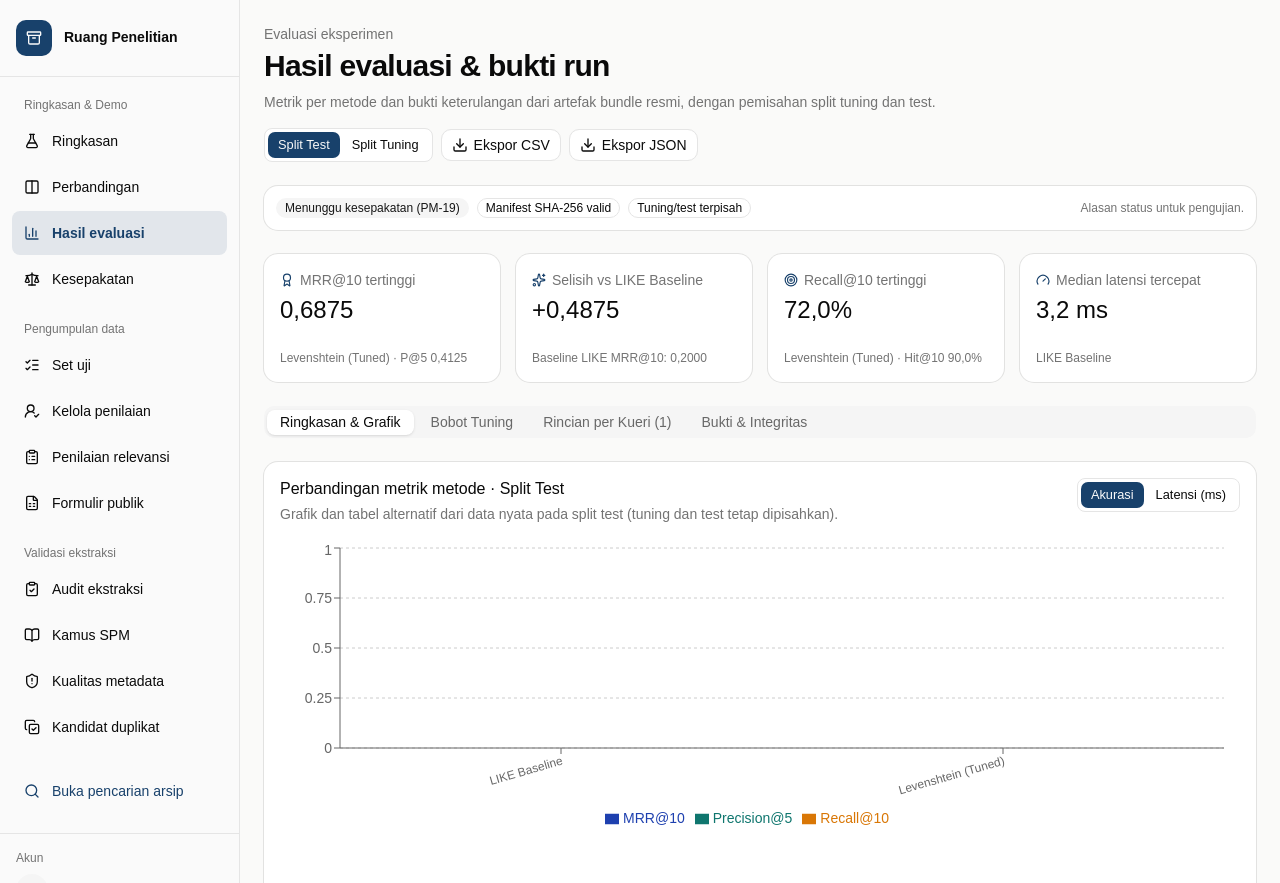
menampilkan KPI, tab, tabel alternatif grafik, pindah split, dan ekspor untuk admin
expect the text "Menunggu kesepakatan (PM-19)" is shown: met, box [276,198,469,218]
expect the text "Manifest SHA-256 valid" is shown: met, box [477,198,620,218]
Click the tab "Rincian per Kueri (1)" at x=607, y=422, box [530,410,684,434]
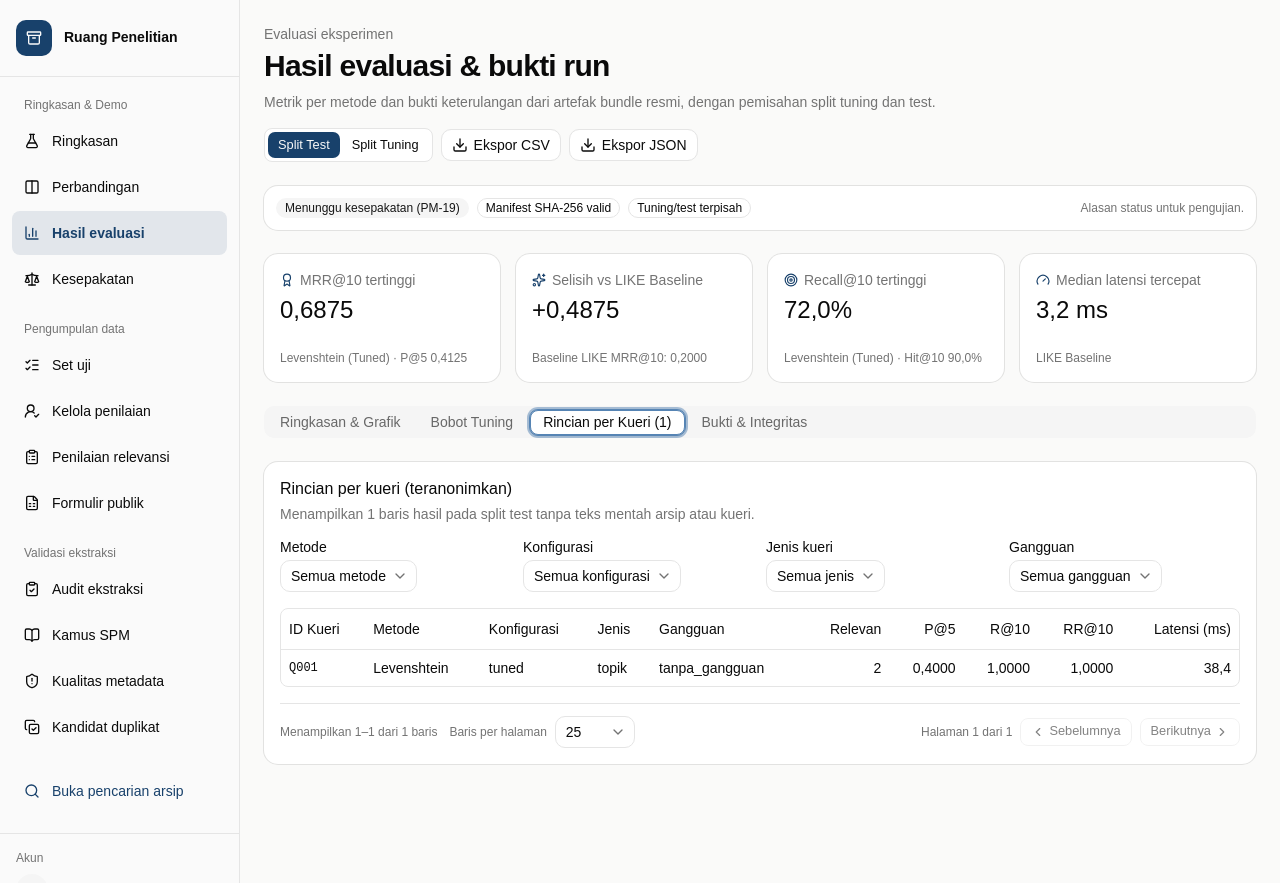
expect the text "Q001" is shown: met, box [281,649,365,686]
expect the text "Menampilkan 1–1 dari 1 baris" is shown: met, box [280,724,437,740]
expect the text "Halaman 1 dari 1" is shown: met, box [921,724,1012,740]
Click the dropdown named "Baris per halaman" at x=595, y=732, box [555,716,635,748]
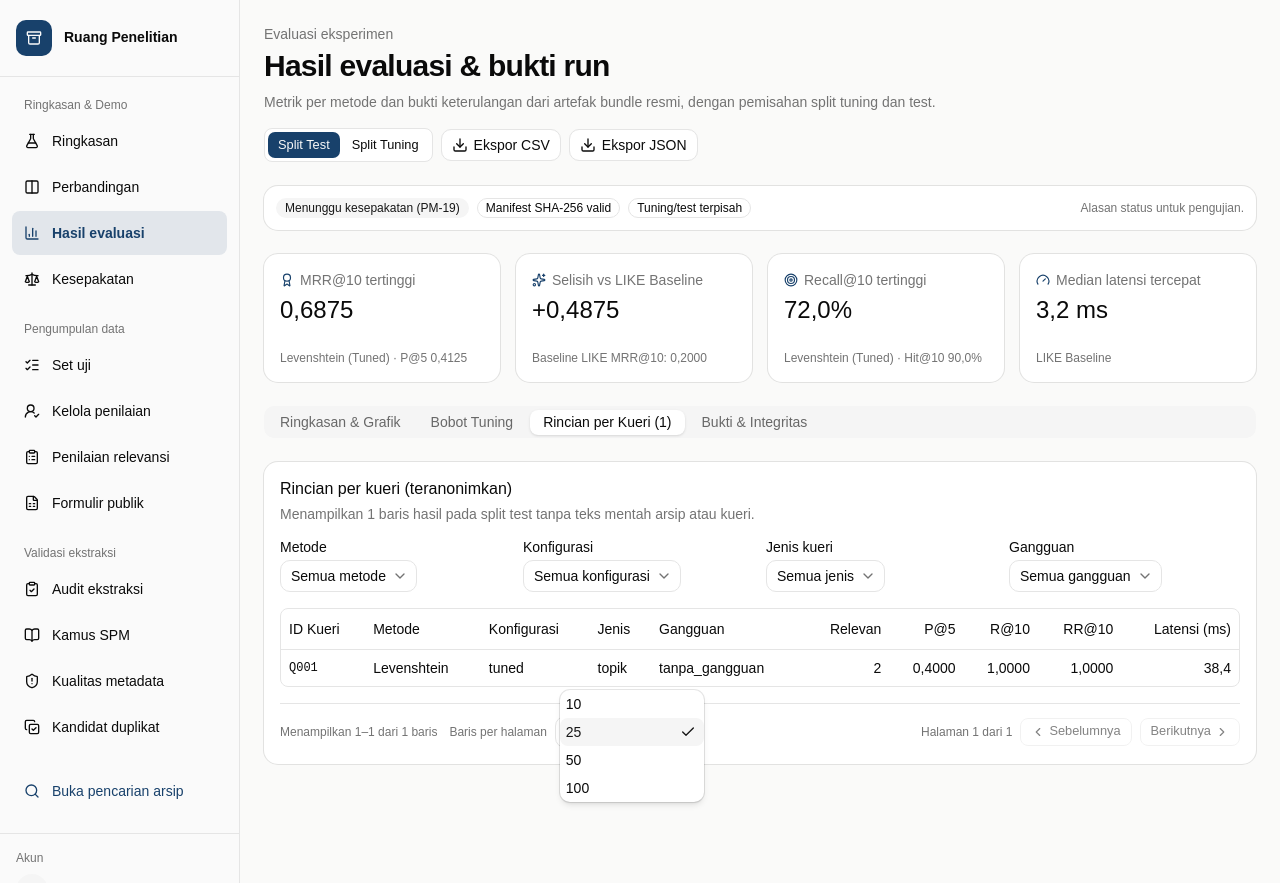
Click the option "50" at x=574, y=760, box [566,752,581,768]
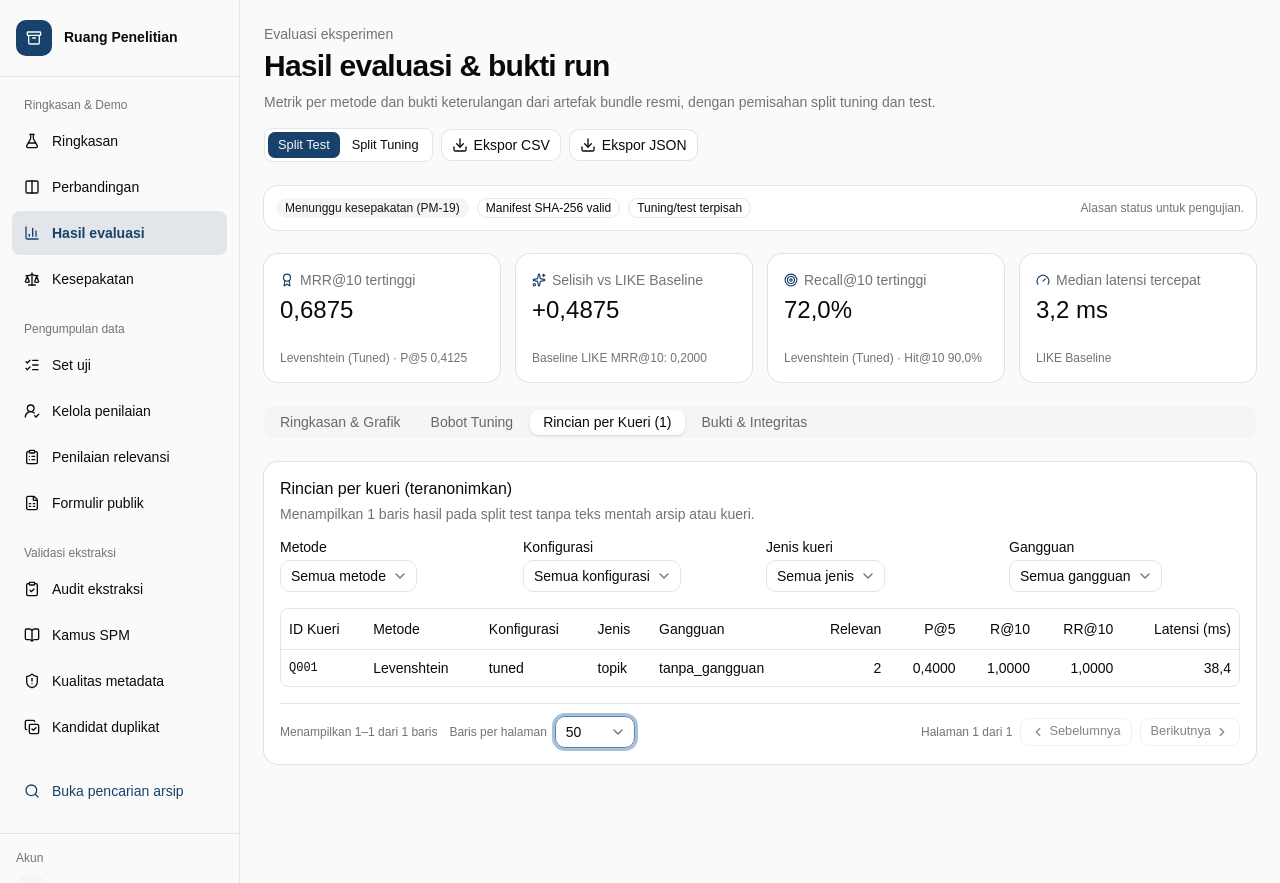
expect the text "Q001" is shown: met, box [281,649,365,686]
Click the tab "Bukti & Integritas" at x=754, y=422, box [688,410,820,434]
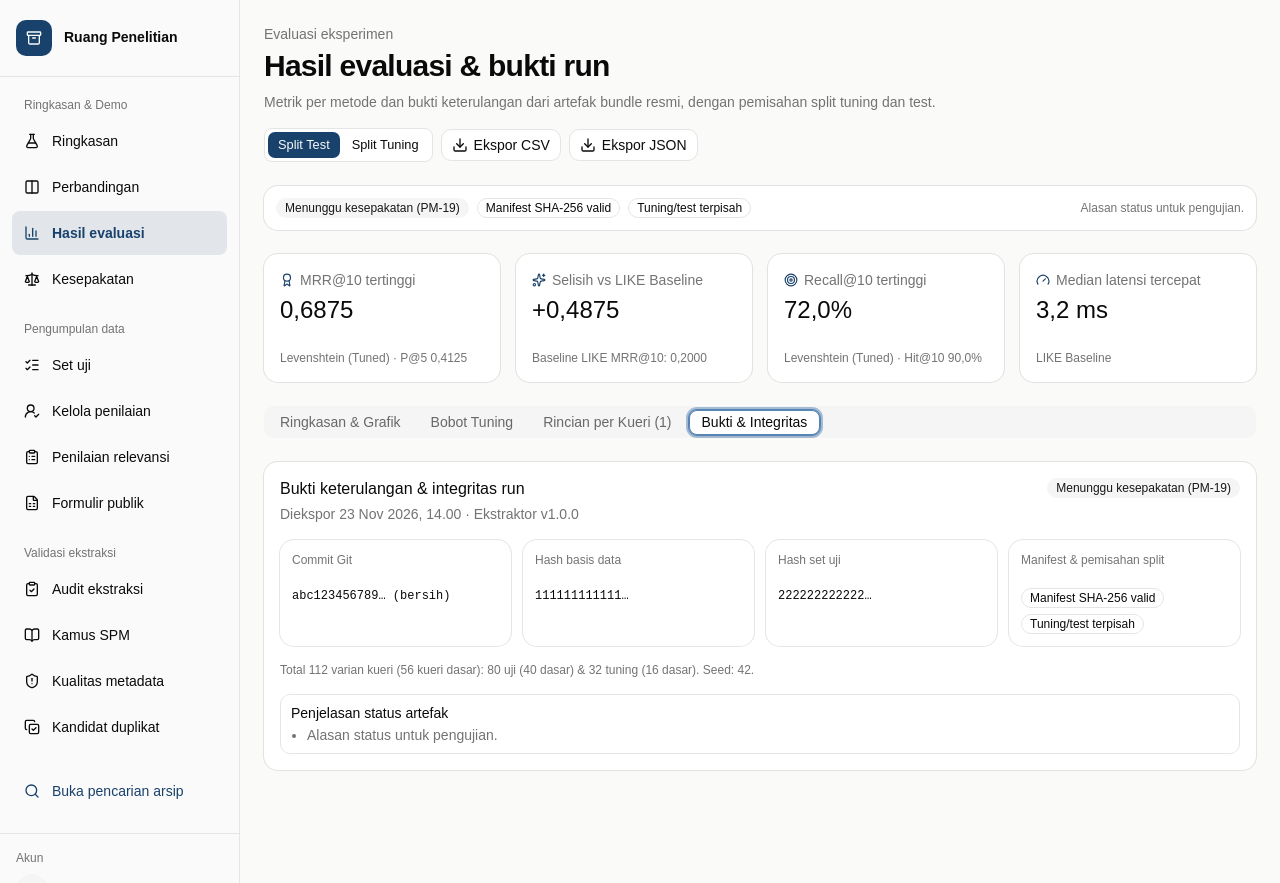
expect the text "Commit Git" is shown: met, box [292,553,352,567]
Click the button "Split Tuning" at x=385, y=145, box [341,131,430,159]
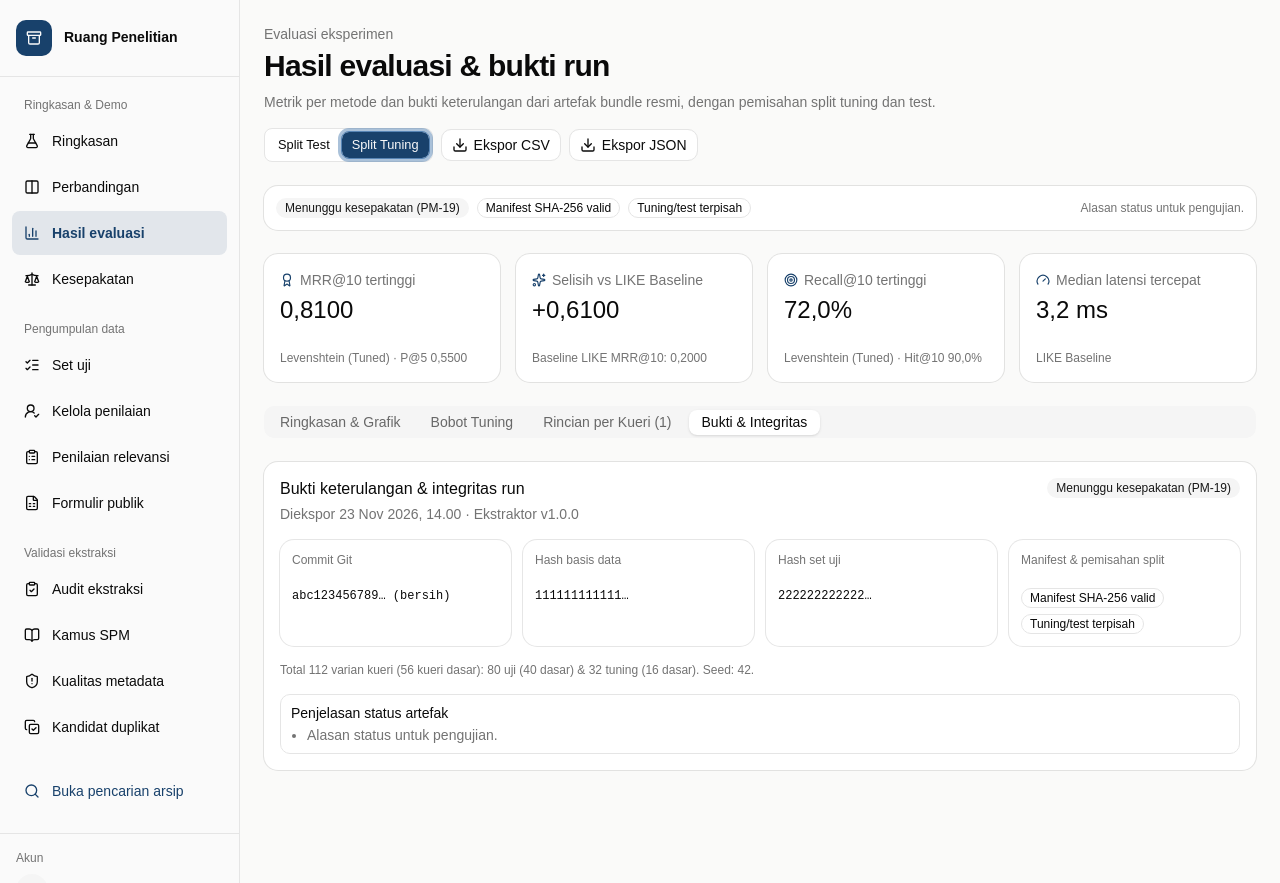
Click the tab "Rincian per Kueri (1)" at x=607, y=422, box [530,410,684,434]
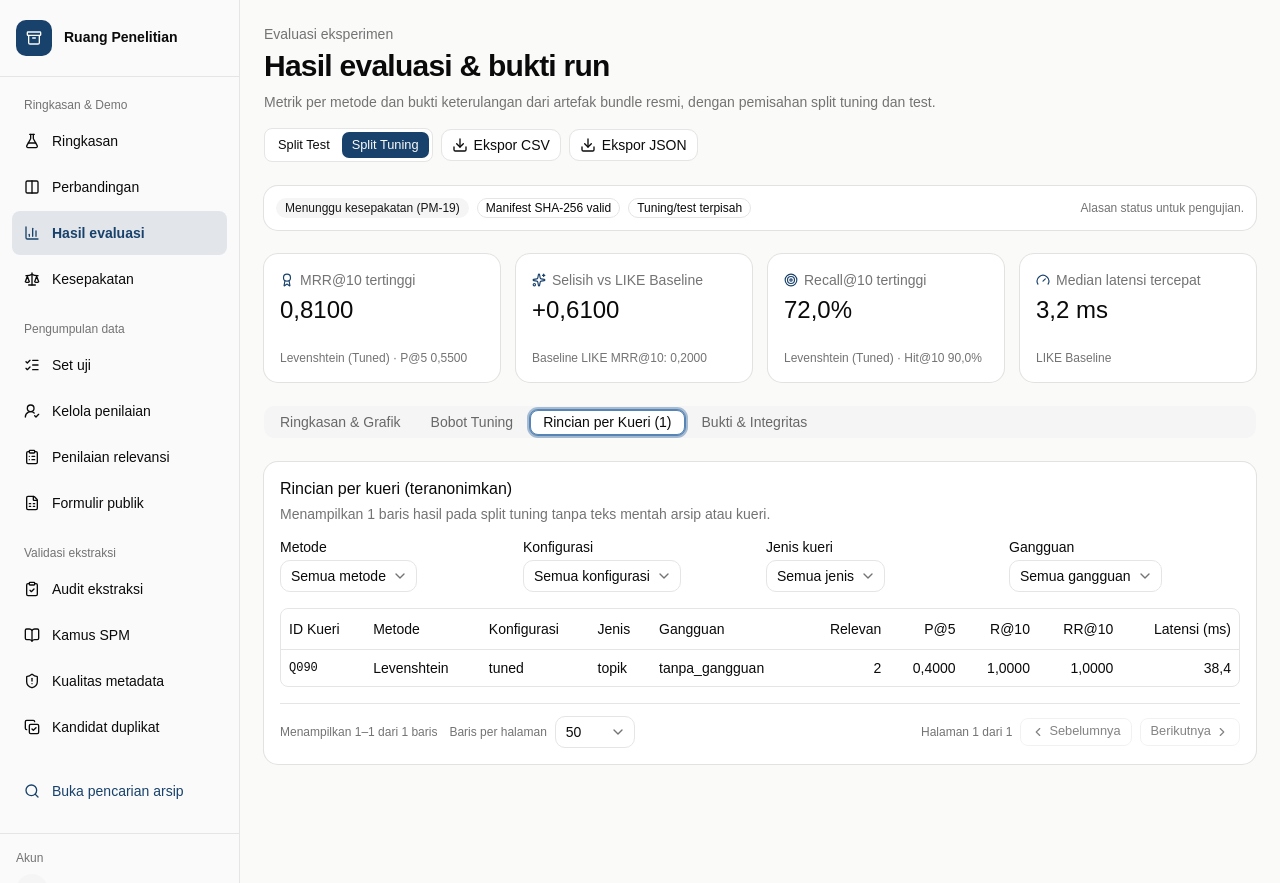
expect the text "Q090" is shown: met, box [281,649,365,686]
